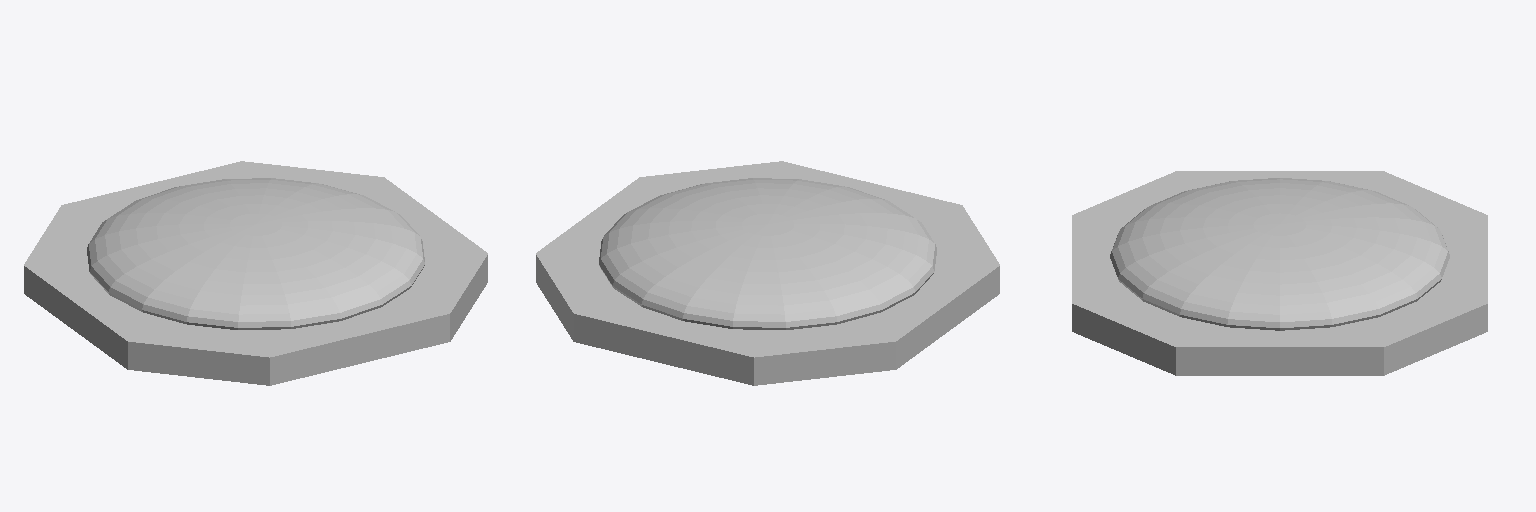
File: Teleporter.obj
3 renders of one model, left to right at view 1: azimuth 30°, elevation 25°; view 2: azimuth 150°, elevation 25°; view 3: azimuth 270°, elevation 25°, orthographic.
Visible parts, largest first — view 1: pSphere1, pCube1; view 2: pSphere1, pCube1; view 3: pSphere1, pCube1.
Boxes of the visible parts, box(x1,y1,x2,y2) form: pSphere1: box(87, 178, 424, 329); pCube1: box(24, 161, 487, 385); pSphere1: box(599, 178, 936, 329); pCube1: box(536, 161, 999, 385); pSphere1: box(1110, 178, 1449, 330); pCube1: box(1072, 171, 1487, 375).
Bounding box in the file's own units: 2.45 × 0.4105 × 2.45.